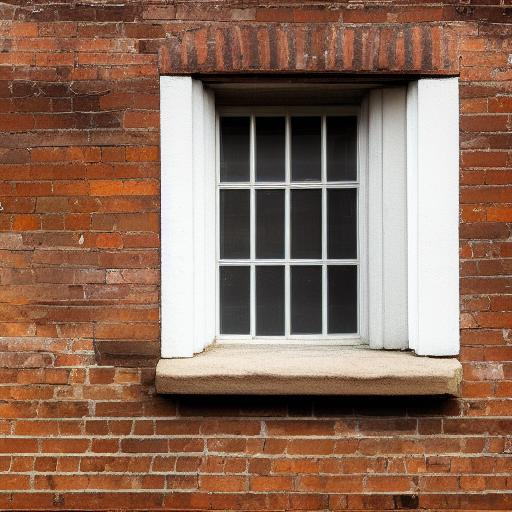Window: (144, 23, 467, 406)
